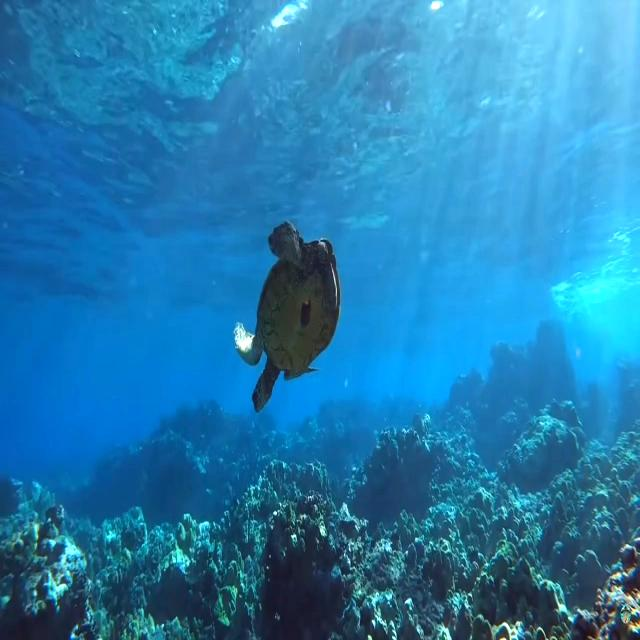Sea turtle: (232, 223, 342, 414)
